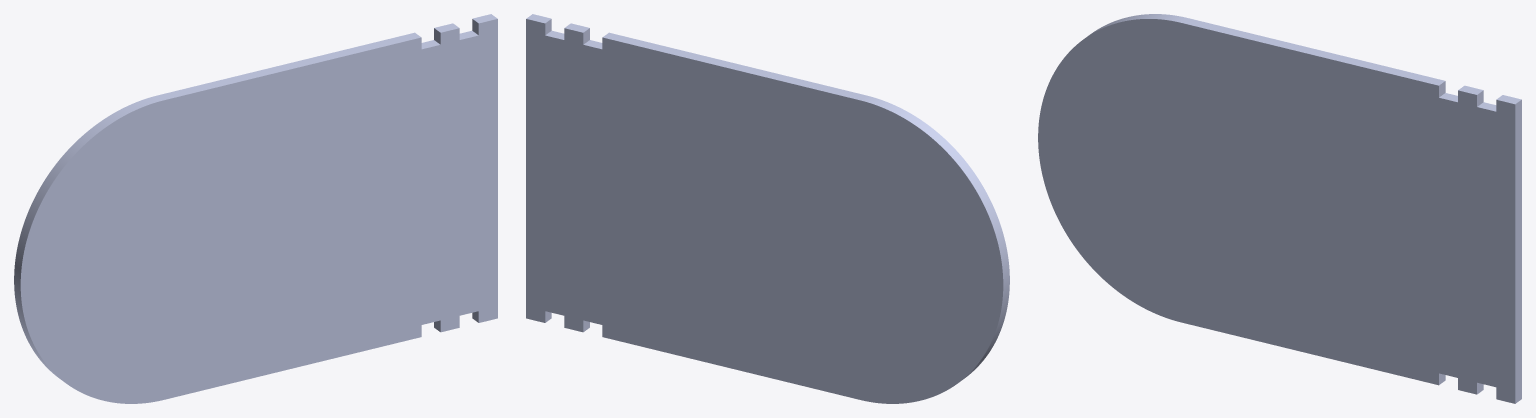
File: car1.FBX
The picture shows the model from 3 angles, left to right: view 1: azimuth 30°, elevation 25°; view 2: azimuth 150°, elevation 25°; view 3: azimuth 330°, elevation 25°; orthographic projection.
Visible parts, largest first — view 1: 填料-伸長1; view 2: 填料-伸長1; view 3: 填料-伸長1.
Part boxes in pixels (x1,y1,x2,y2): 填料-伸長1: [14, 14, 497, 403]; 填料-伸長1: [526, 14, 1009, 403]; 填料-伸長1: [1038, 14, 1521, 403].
Size of the model in its own units: 9.84 by 5.91 by 0.2362.
